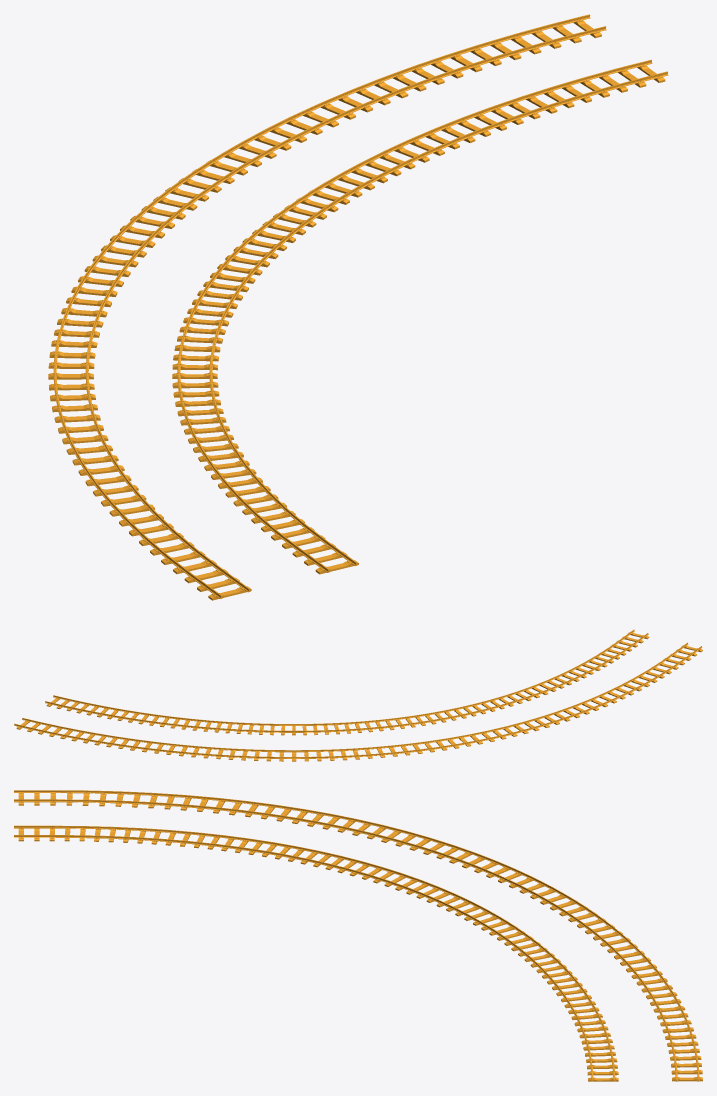
The model's file is SM_Train_Rail_Turn_Double.fbx.
3 renders of one model, top to bottom at view 1: azimuth 30°, elevation 25°; view 2: azimuth 150°, elevation 25°; view 3: azimuth 270°, elevation 25°, orthographic. The views are drawn at different scales.
Parts seen in each view (by area): view 1: SM_Train_Rail_Turn_Double; view 2: SM_Train_Rail_Turn_Double; view 3: SM_Train_Rail_Turn_Double.
Part boxes in pixels (x1,y1,x2,y2): SM_Train_Rail_Turn_Double: [48, 14, 668, 600]; SM_Train_Rail_Turn_Double: [14, 629, 702, 761]; SM_Train_Rail_Turn_Double: [14, 790, 702, 1081].
Size of the model in its own units: 49.1 by 0.3232 by 49.1.
